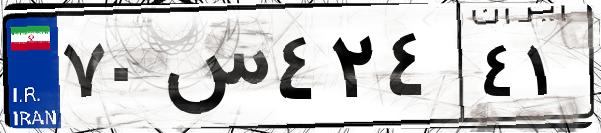0: (110, 28, 158, 98)
1: (525, 38, 570, 115)
2: (330, 28, 385, 110)
4: (270, 28, 330, 110), (385, 28, 445, 110), (475, 38, 525, 113)
7: (57, 26, 110, 100)
س: (158, 20, 270, 120)
